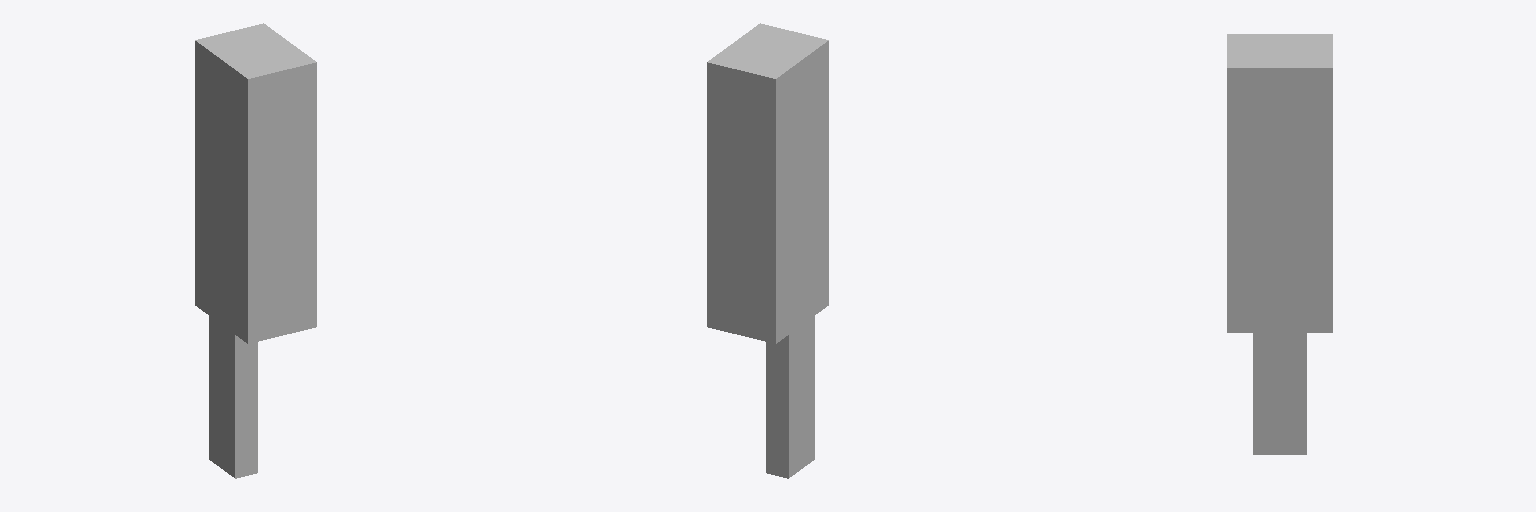
The model's file is right_e_link.obj.
3 views of the same model, side by side, from view 1: azimuth 30°, elevation 25°; view 2: azimuth 150°, elevation 25°; view 3: azimuth 270°, elevation 25° (orthographic).
Visible parts, largest first — view 1: cube.001; view 2: cube.001; view 3: cube.001.
Part boxes in pixels (bbox=[...]): cube.001: bbox=[195, 23, 316, 478]; cube.001: bbox=[707, 23, 828, 478]; cube.001: bbox=[1227, 34, 1332, 454].
Bounding box in the file's own units: 0.1875 × 1.06 × 0.25.